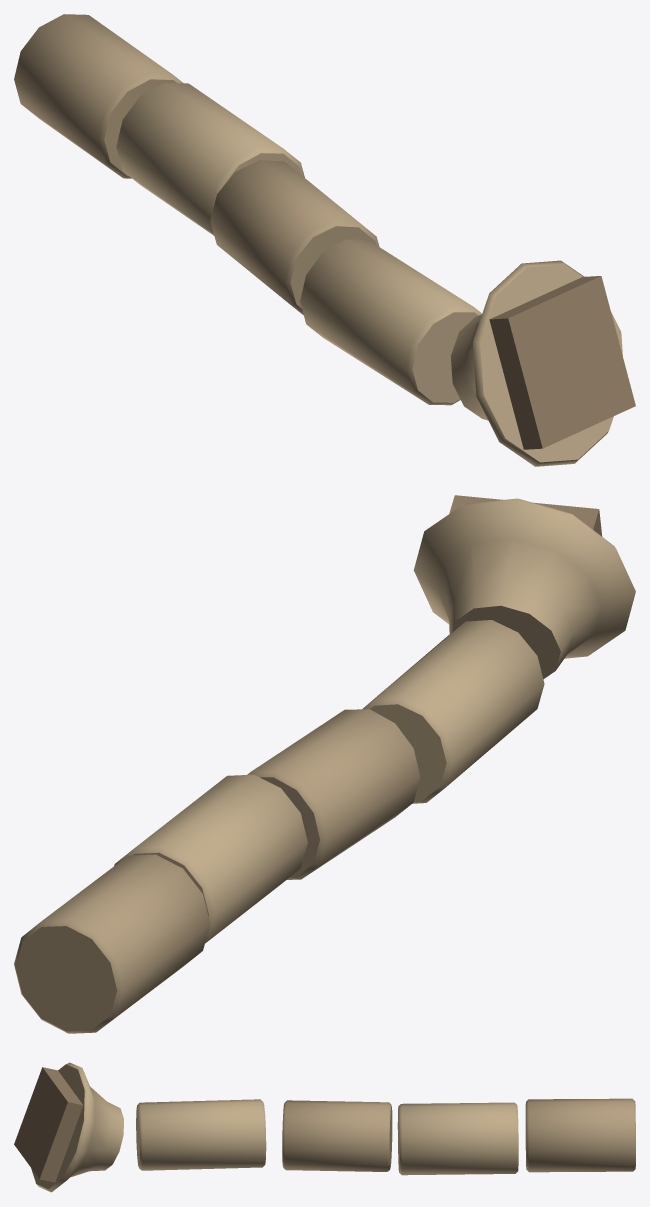
File: column_fallen.glb
The picture shows the model from 3 angles, top to bottom: view 1: azimuth 30°, elevation 25°; view 2: azimuth 150°, elevation 25°; view 3: azimuth 270°, elevation 25°; orthographic projection. The views are drawn at different scales.
Parts seen in each view (by area): view 1: column_fallen; view 2: column_fallen; view 3: column_fallen.
Boxes of the visible parts, x1,y1,x2,y2 form: column_fallen: (14, 14, 635, 466); column_fallen: (14, 495, 635, 1033); column_fallen: (14, 1062, 635, 1192).
Bounding box in the file's own units: 1.95 × 1.88 × 9.34.
